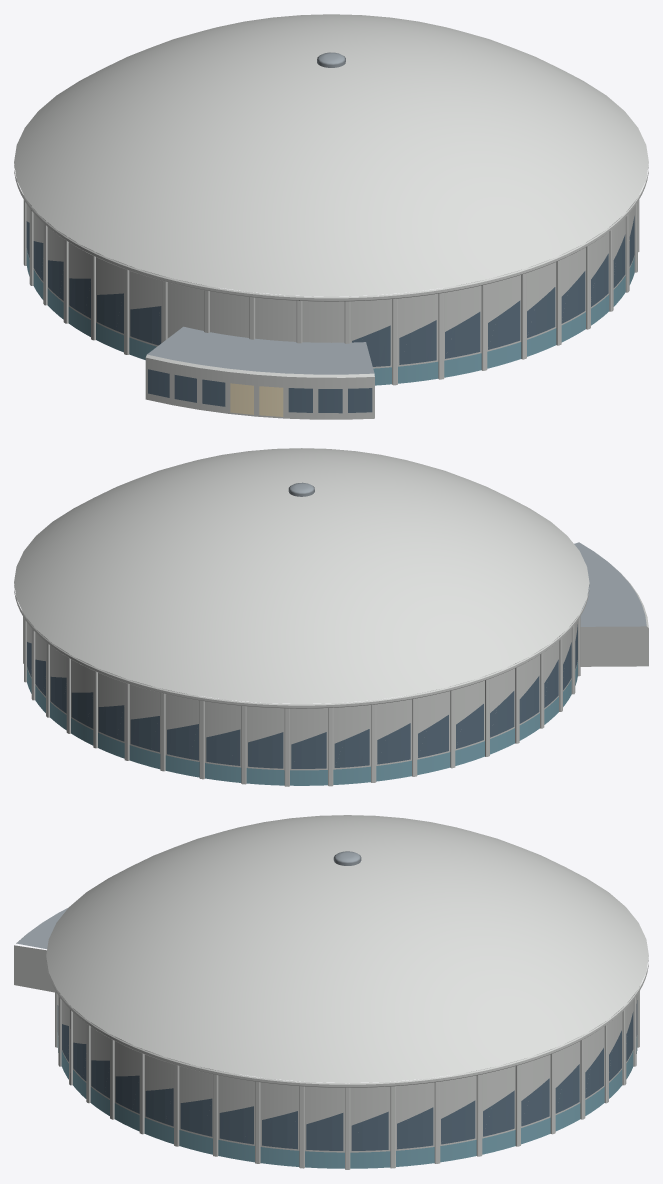
Rendered from detail.glb.
3 views of the same model, one above another, from view 1: azimuth 30°, elevation 25°; view 2: azimuth 150°, elevation 25°; view 3: azimuth 270°, elevation 25° (orthographic). The views are drawn at different scales.
Parts seen in each view (by area): view 1: bojangles-coliseum; view 2: bojangles-coliseum; view 3: bojangles-coliseum.
Boxes of the visible parts, <box> form: bojangles-coliseum: <box>14,14,648,419</box>; bojangles-coliseum: <box>14,448,648,786</box>; bojangles-coliseum: <box>14,815,648,1169</box>.
Size of the model in its own units: 106 by 36.57 by 110.
